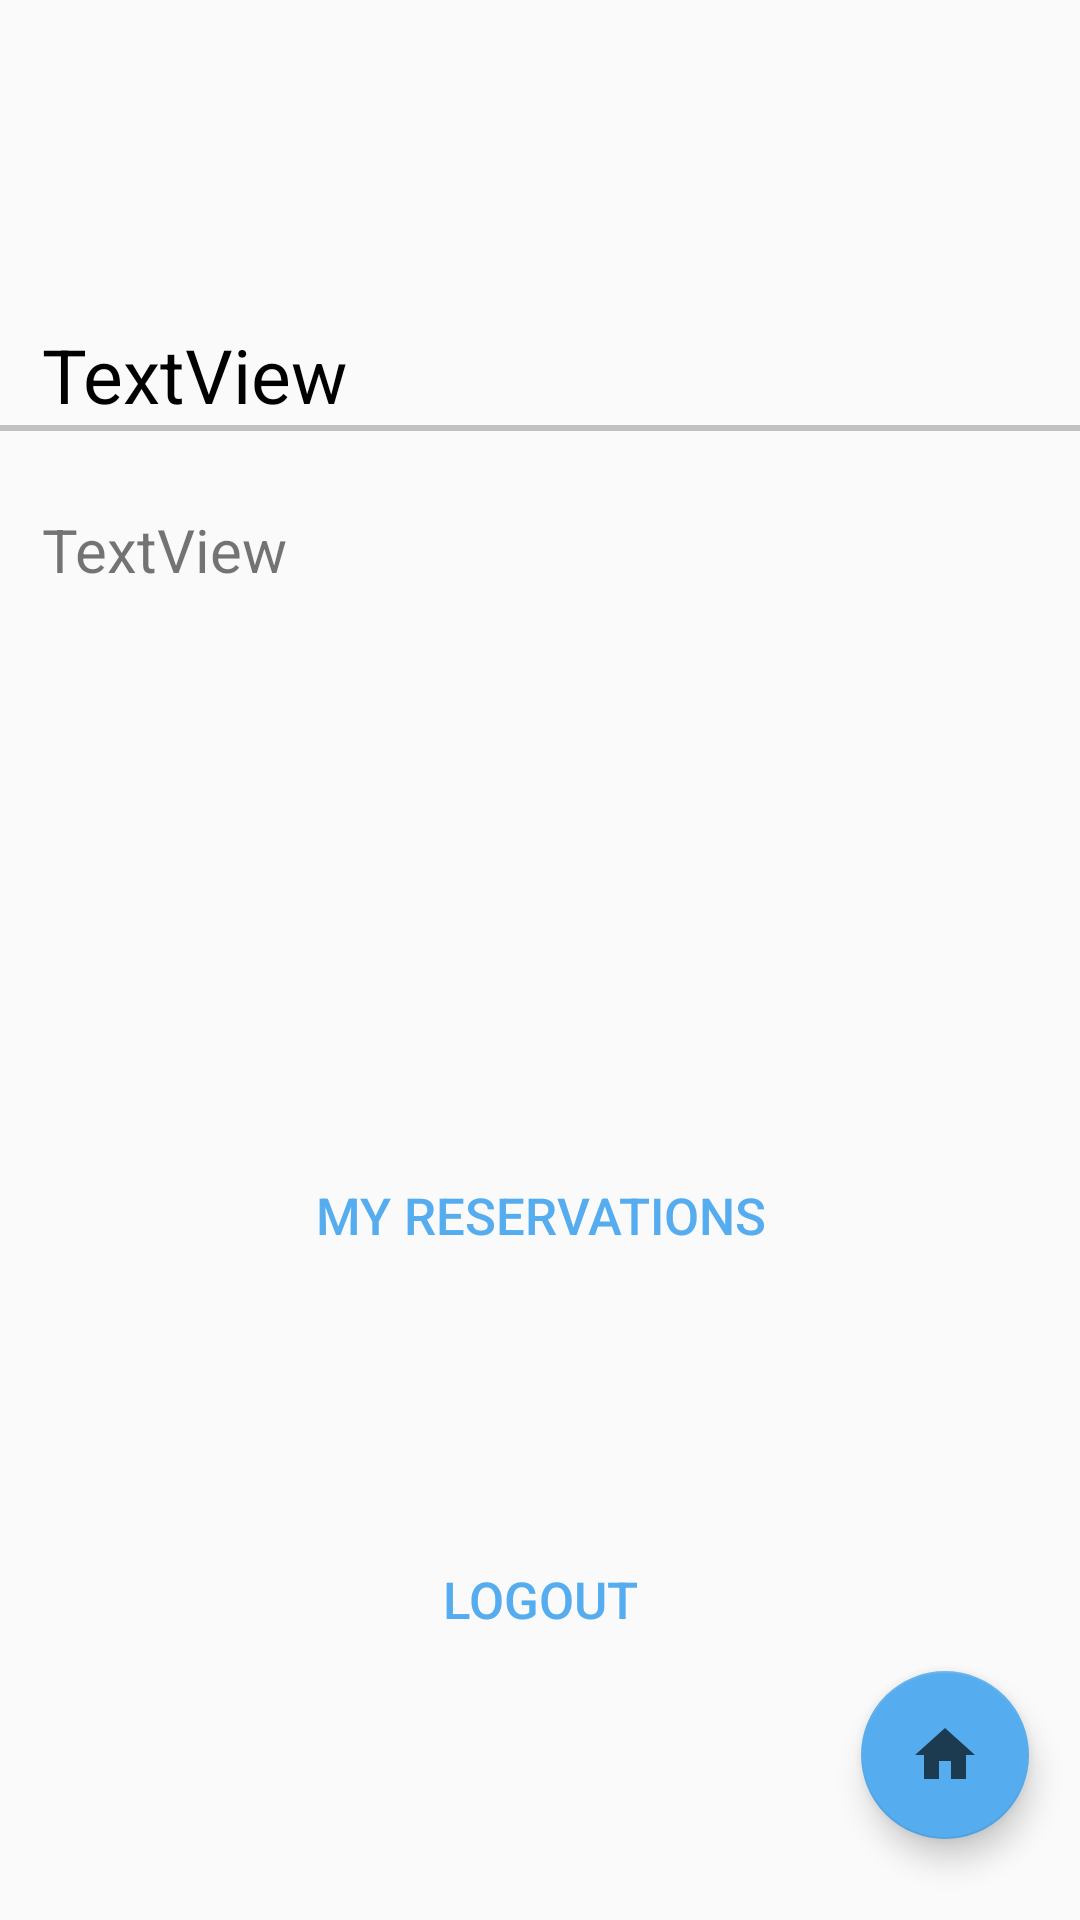

Screen size 1080*1920. Icon name, then its box in pixels as (x1, y1, x2, y2):
home: (861, 1671, 1029, 1839)
